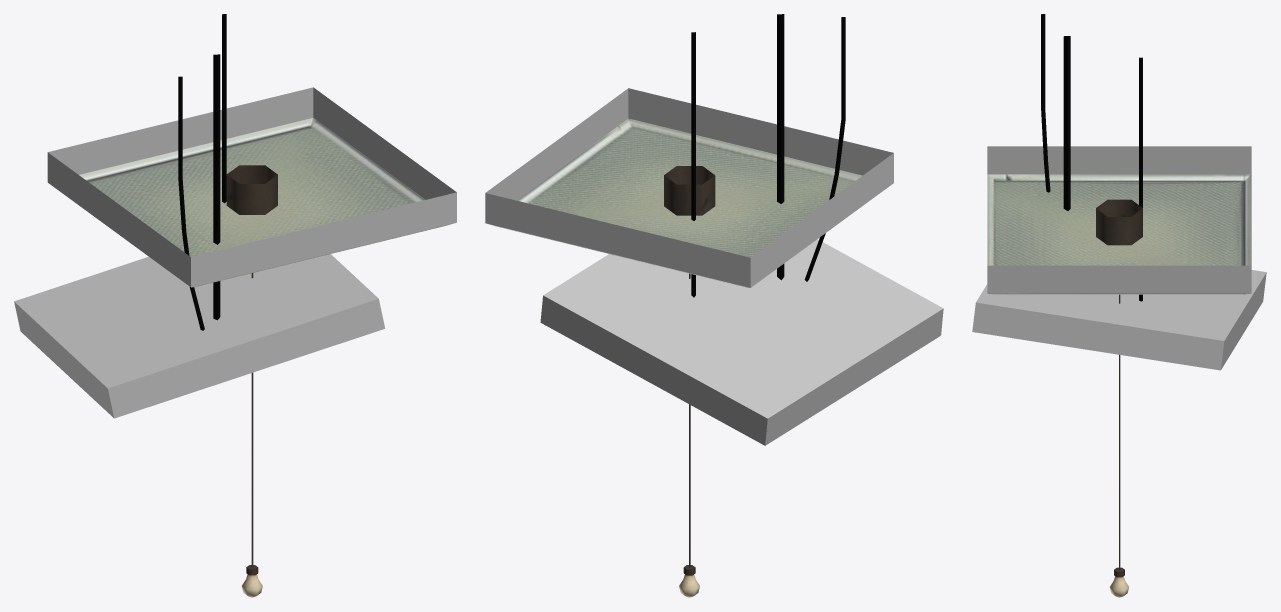
The model's file is CeilingLights.FBX.
3 renders of one model, left to right at view 1: azimuth 30°, elevation 25°; view 2: azimuth 150°, elevation 25°; view 3: azimuth 270°, elevation 25°, orthographic. The views are drawn at different scales.
Parts seen in each view (by area): view 1: CeilingLight_Hanging, CeilingLight_OFF, CeilingLight_ON, HangingLight_basic; view 2: CeilingLight_Hanging, CeilingLight_OFF, CeilingLight_ON, HangingLight_basic; view 3: CeilingLight_OFF, CeilingLight_Hanging, CeilingLight_ON, HangingLight_basic.
Part boxes in pixels (left/top/right/bottom): CeilingLight_Hanging: left=14, top=14, right=385, bottom=418; CeilingLight_OFF: left=47, top=117, right=456, bottom=287; CeilingLight_ON: left=48, top=87, right=456, bottom=287; HangingLight_basic: left=226, top=165, right=277, bottom=597; CeilingLight_Hanging: left=540, top=14, right=943, bottom=445; CeilingLight_OFF: left=485, top=118, right=893, bottom=287; CeilingLight_ON: left=485, top=88, right=893, bottom=287; HangingLight_basic: left=664, top=166, right=715, bottom=597; CeilingLight_OFF: left=987, top=174, right=1251, bottom=293; CeilingLight_Hanging: left=972, top=14, right=1266, bottom=370; CeilingLight_ON: left=987, top=146, right=1251, bottom=294; HangingLight_basic: left=1096, top=199, right=1142, bottom=597.
Bounding box in the file's own units: 114 × 190 × 94.97.
